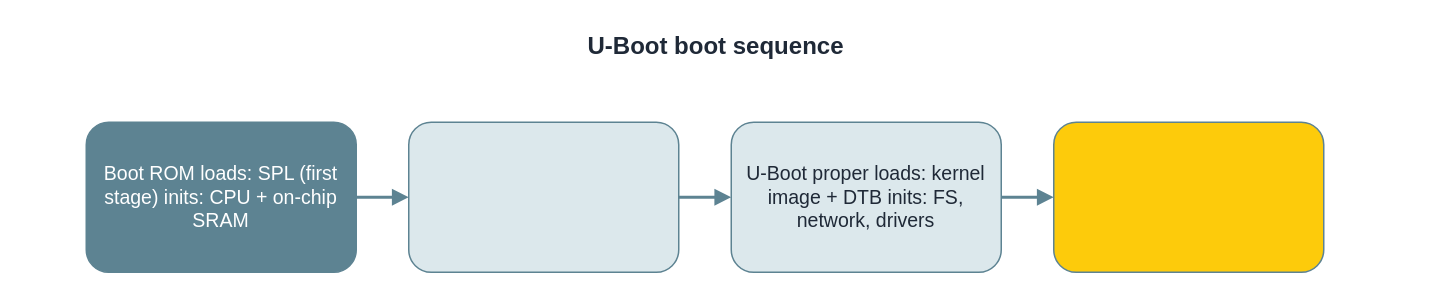
The diagram is 1431 pixels wide and 299 high, and some of its shapes have lost their labels. Each missing label, with the centre of its shape:
"Linux kernel loads: rootfs (initramfs) inits: hardware, runs init" belongs at point (1188, 196).
"SPL loads: U-Boot proper inits: DDR (DRAM)" belongs at point (543, 196).
